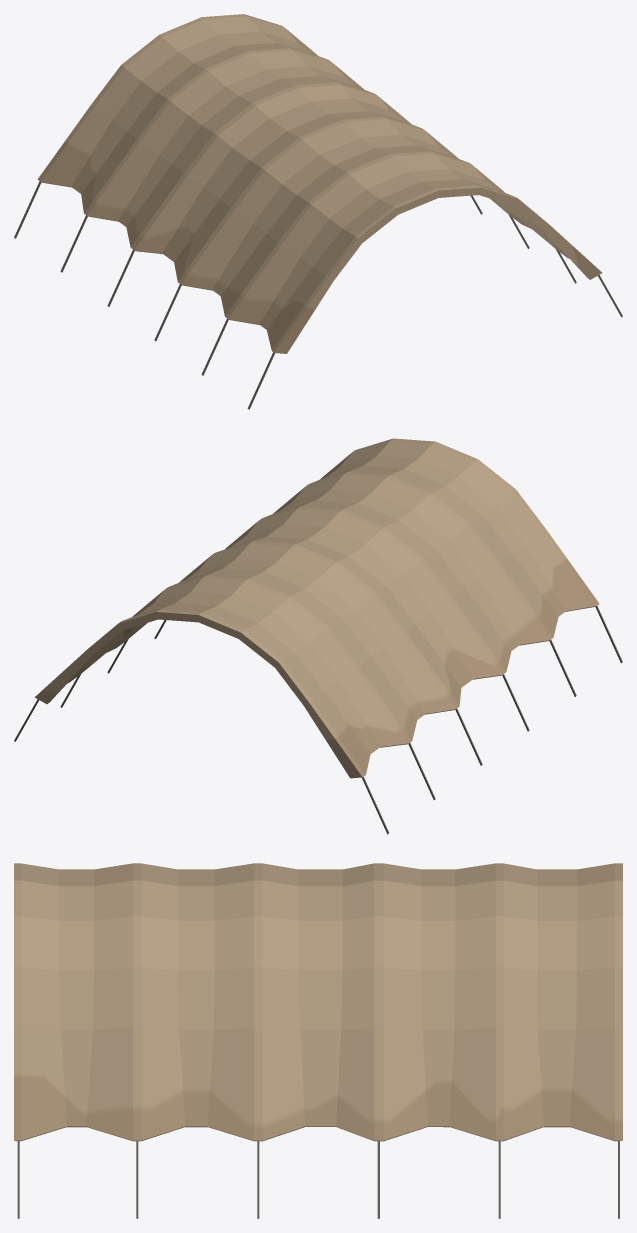
The model's file is SM_Bld_Tent_Cover_01.glb.
The picture shows the model from 3 angles, top to bottom: view 1: azimuth 30°, elevation 25°; view 2: azimuth 150°, elevation 25°; view 3: azimuth 270°, elevation 25°; orthographic projection. The views are drawn at different scales.
Visible parts, largest first — view 1: SM_Bld_Tent_Cover_01; view 2: SM_Bld_Tent_Cover_01; view 3: SM_Bld_Tent_Cover_01.
Part boxes in pixels (x1,y1,x2,y2): SM_Bld_Tent_Cover_01: [14, 14, 622, 409]; SM_Bld_Tent_Cover_01: [14, 438, 622, 834]; SM_Bld_Tent_Cover_01: [14, 863, 622, 1218].
Size of the model in its own units: 10.03 by 4.47 by 10.99.
Materials: 1 (1 with a texture image).
